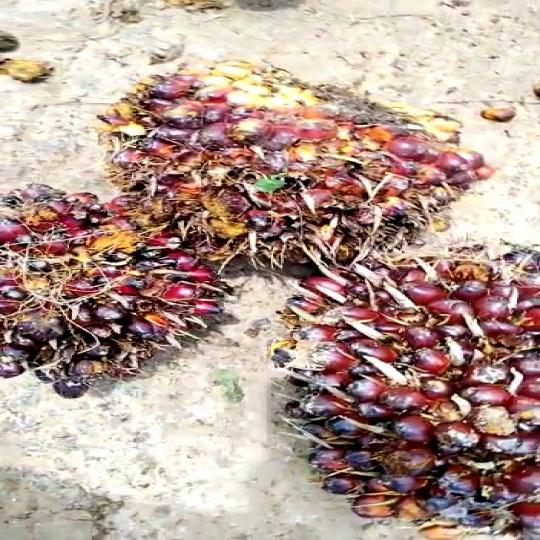masak: (87, 66, 490, 292), (259, 239, 540, 534), (0, 177, 242, 395)
